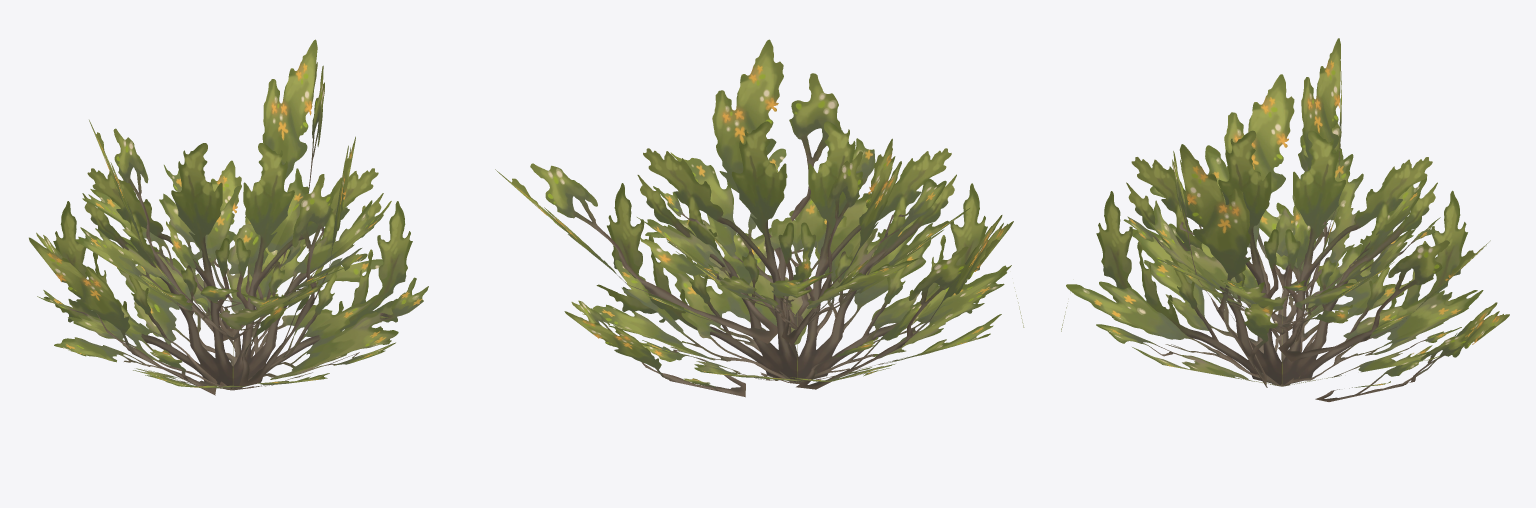
Rendered from plant-4.glb.
3 renders of one model, left to right at view 1: azimuth 30°, elevation 25°; view 2: azimuth 150°, elevation 25°; view 3: azimuth 270°, elevation 25°, orthographic. The views are drawn at different scales.
Parts seen in each view (by area): view 1: creosote.base_Material.002_0; view 2: creosote.base_Material.002_0; view 3: creosote.base_Material.002_0.
Part boxes in pixels (x1,y1,x2,y2): creosote.base_Material.002_0: [29, 39, 428, 395]; creosote.base_Material.002_0: [495, 39, 1024, 397]; creosote.base_Material.002_0: [1061, 38, 1509, 401].
Bounding box in the file's own units: 1.27 × 0.85 × 1.15.
1 material, 1 textured.
